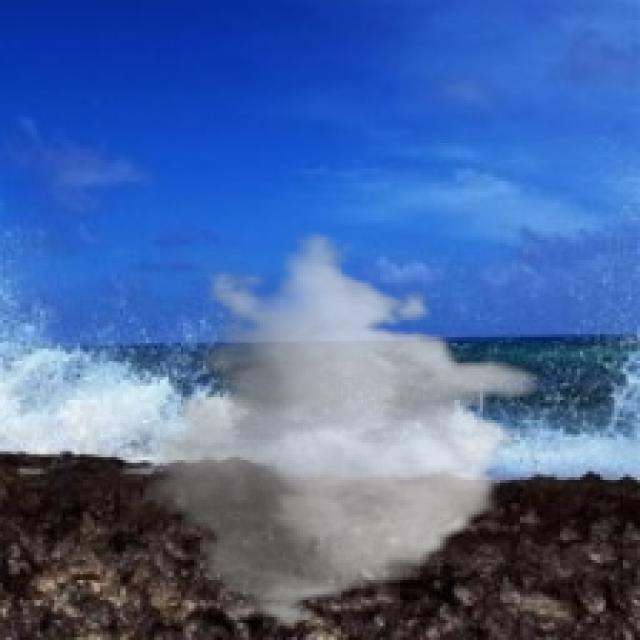Smoke: (128, 232, 543, 632)
